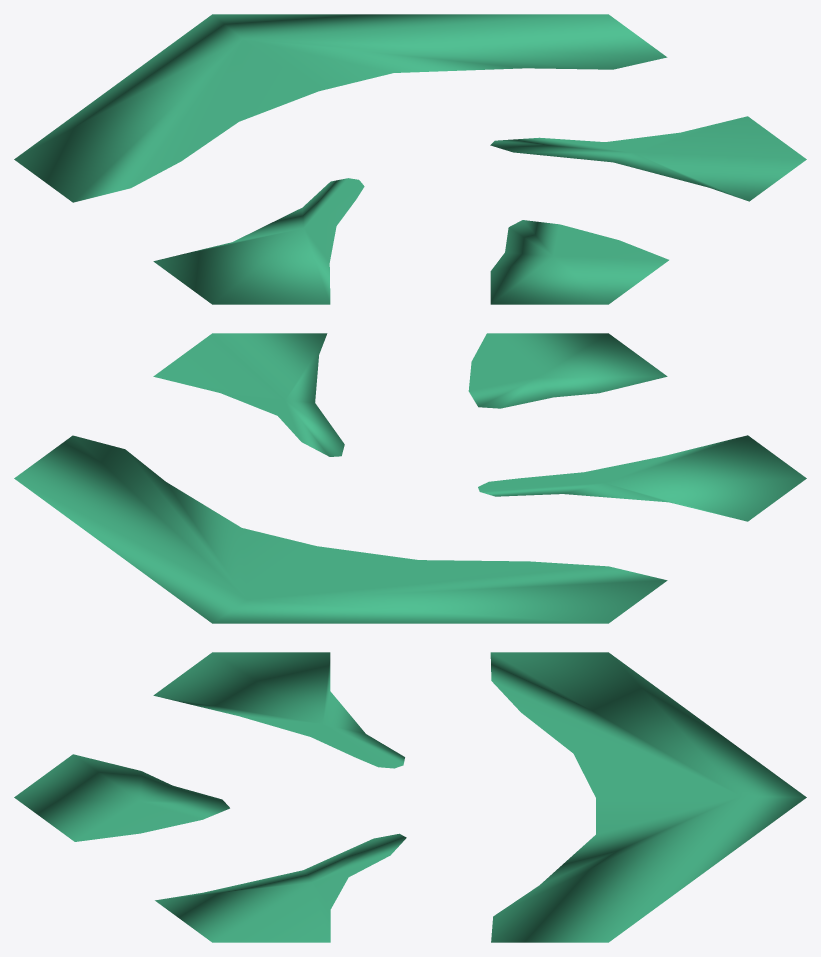
The model's file is riverK_flat.fbx.
3 renders of one model, top to bottom at view 1: azimuth 30°, elevation 25°; view 2: azimuth 150°, elevation 25°; view 3: azimuth 270°, elevation 25°, orthographic.
Parts seen in each view (by area): view 1: hex_forest_roadK_Cylinder.492; view 2: hex_forest_roadK_Cylinder.492; view 3: hex_forest_roadK_Cylinder.492.
Boxes of the visible parts, box(x1,y1,x2,y2) form: hex_forest_roadK_Cylinder.492: box(14, 14, 806, 304); hex_forest_roadK_Cylinder.492: box(14, 333, 806, 623); hex_forest_roadK_Cylinder.492: box(14, 652, 806, 942).
Size of the model in its own units: 190 by 1.66e-05 by 220.
